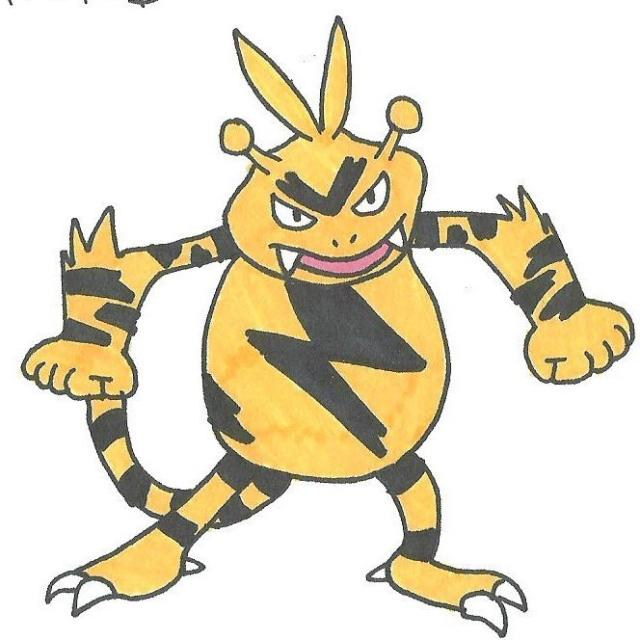Electabuzz: (102, 99, 538, 603)
